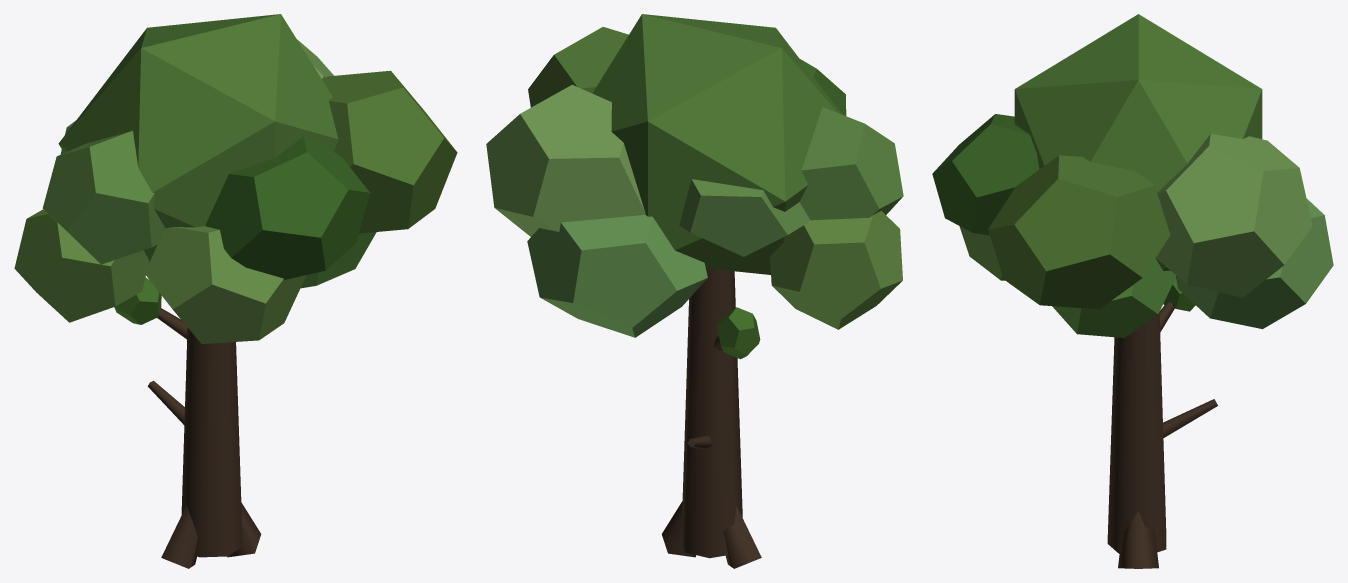
Rendered from low-poly-tree-1.glb.
3 renders of one model, left to right at view 1: azimuth 30°, elevation 25°; view 2: azimuth 150°, elevation 25°; view 3: azimuth 270°, elevation 25°, orthographic. The views are drawn at different scales.
Size of the model in its own units: 2.48 by 3.3 by 2.34.
